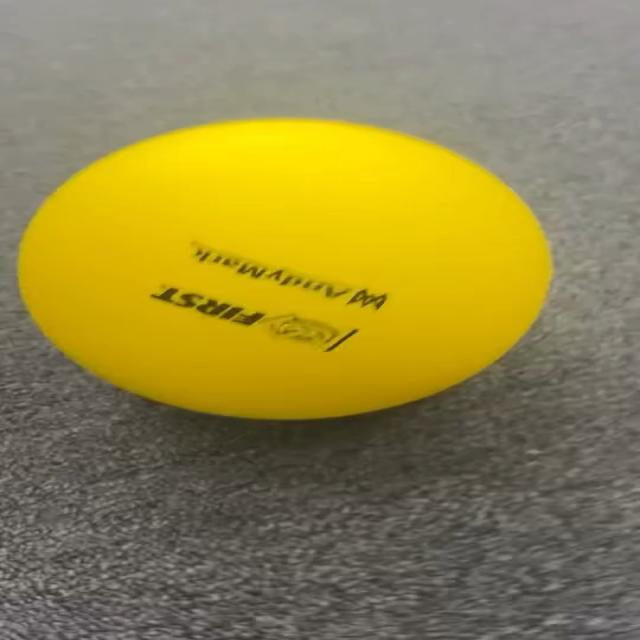Fuels: (18, 120, 550, 416)
